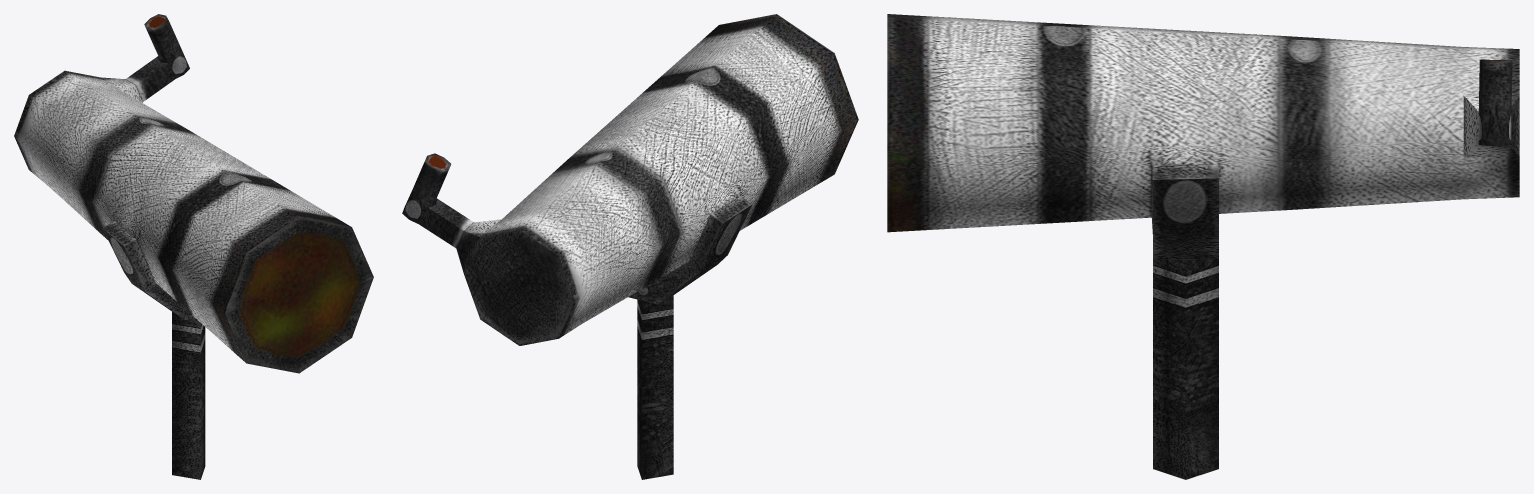
Rendered from HEAD_TELESCOPE.fbx.
3 views of the same model, side by side, from view 1: azimuth 30°, elevation 25°; view 2: azimuth 150°, elevation 25°; view 3: azimuth 270°, elevation 25° (orthographic). The views are drawn at different scales.
Visible parts, largest first — view 1: HEAD_TELESCOPE; view 2: HEAD_TELESCOPE; view 3: HEAD_TELESCOPE.
Part boxes in pixels (bbox=[...]): HEAD_TELESCOPE: bbox=[14, 14, 373, 479]; HEAD_TELESCOPE: bbox=[402, 14, 858, 479]; HEAD_TELESCOPE: bbox=[887, 14, 1519, 479].
Bounding box in the file's own units: 0.0127 × 0.0223 × 0.0272.
